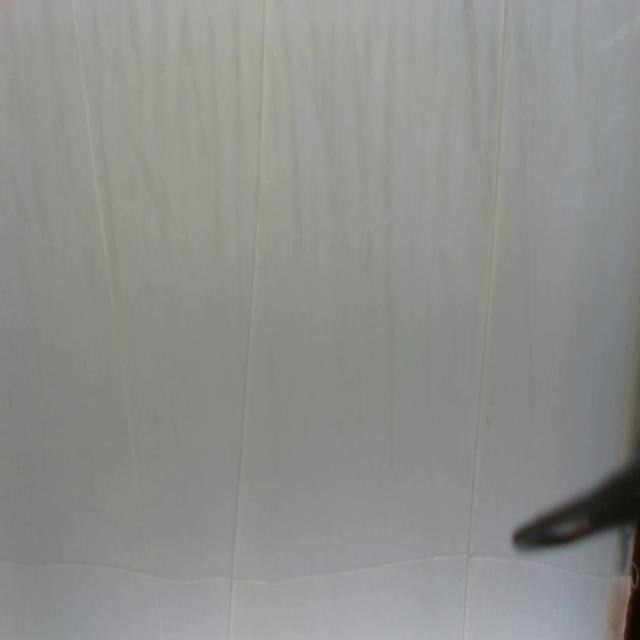crease: (460, 0, 508, 637), (226, 0, 267, 640), (70, 0, 117, 313), (117, 369, 166, 637)
